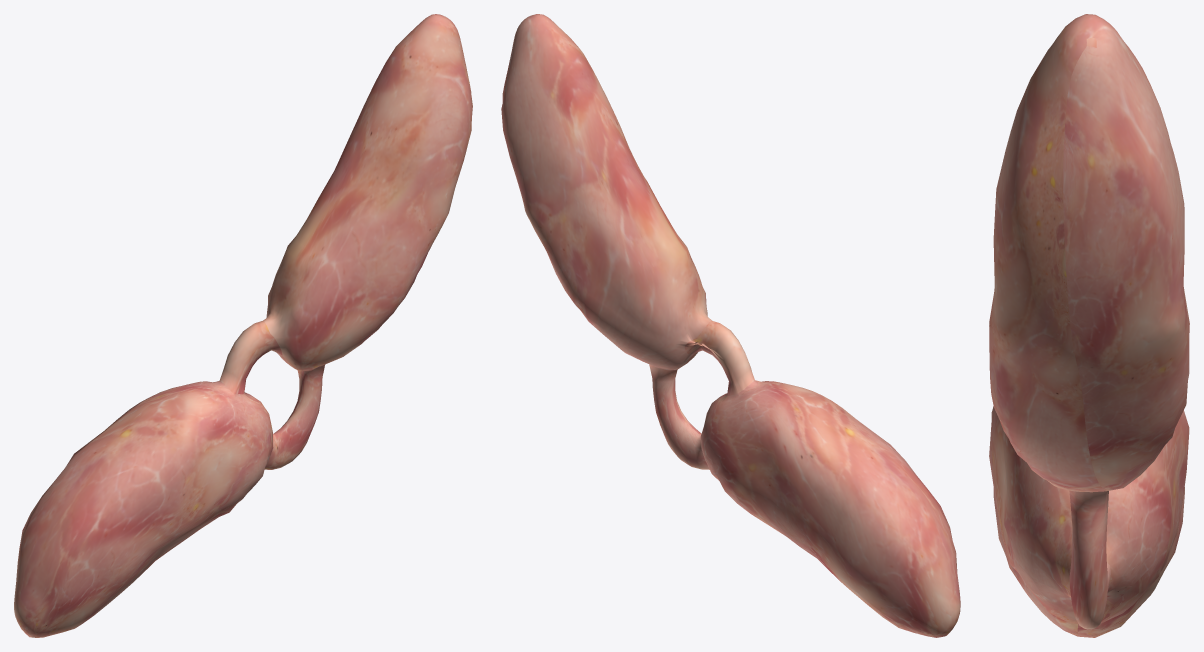
The model's file is Mutated_Fused_Sausages.fbx.
The picture shows the model from 3 angles, left to right: view 1: azimuth 30°, elevation 25°; view 2: azimuth 150°, elevation 25°; view 3: azimuth 270°, elevation 25°; orthographic projection. The views are drawn at different scales.
Visible parts, largest first — view 1: Low-Poly-Mutated_Fused_Sausages_SM; view 2: Low-Poly-Mutated_Fused_Sausages_SM; view 3: Low-Poly-Mutated_Fused_Sausages_SM.
Part boxes in pixels (x1,y1,x2,y2): Low-Poly-Mutated_Fused_Sausages_SM: (14, 14, 472, 637); Low-Poly-Mutated_Fused_Sausages_SM: (501, 14, 960, 637); Low-Poly-Mutated_Fused_Sausages_SM: (989, 14, 1189, 637).
Bounding box in the file's own units: 94.84 × 107 × 20.46.
Materials: 1 (1 with a texture image).
